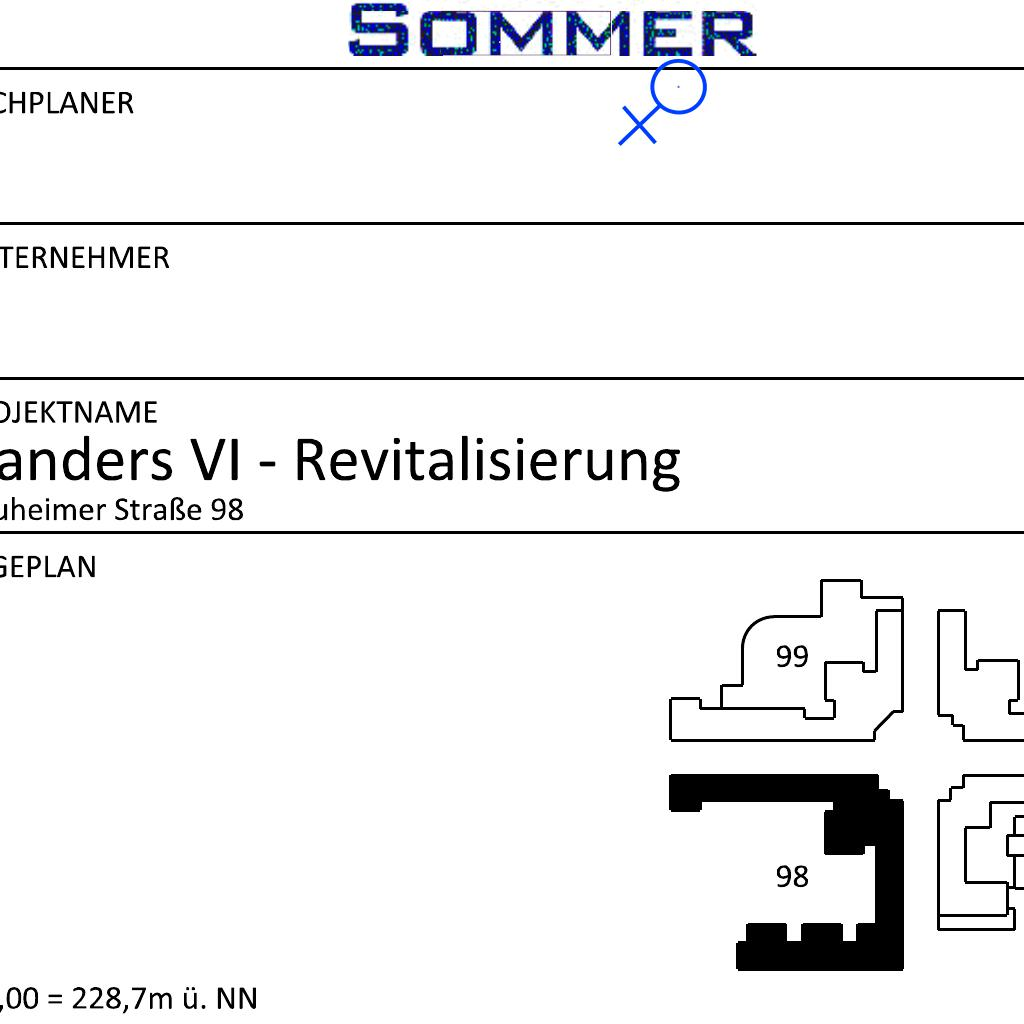Elektroanschluss_allgemein_230V_Geraeteanschlussdose_230V: (617, 57, 716, 151)
